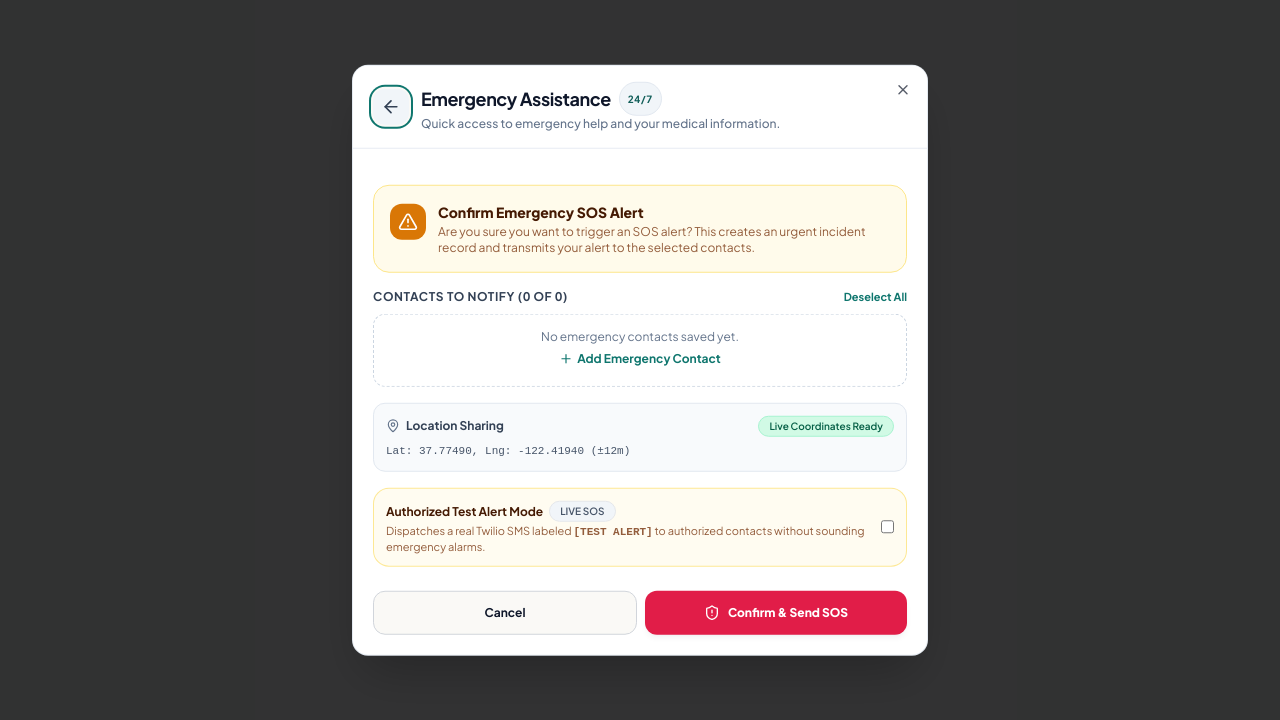
EmergencyModal — Global SOS Dialog & Safety Workflows › SOS handles backend failure honestly without fake success
Click the button "Confirm & Send SOS" at (776, 612), box [645,590,907,634]
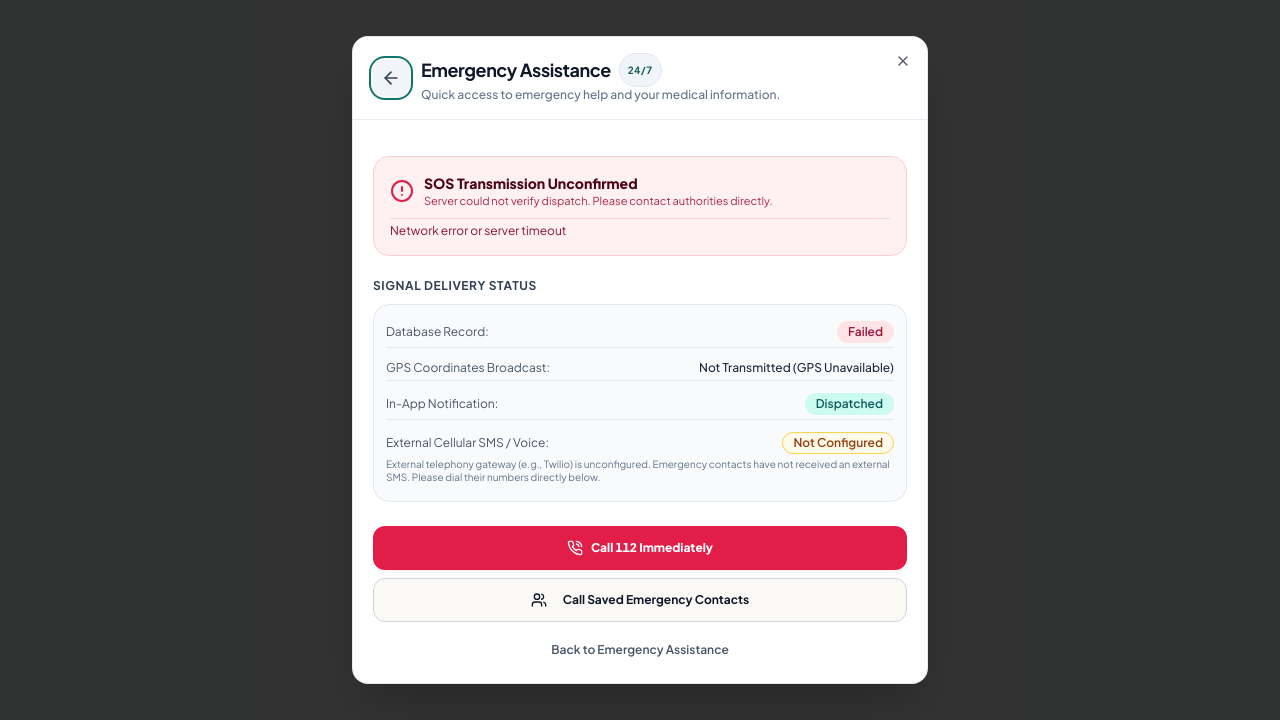
Now the heading "SOS Transmission Unconfirmed" is shown, box [424,174,638,192]
Now the text "Network error or server timeout" is shown, box [390,218,890,238]
